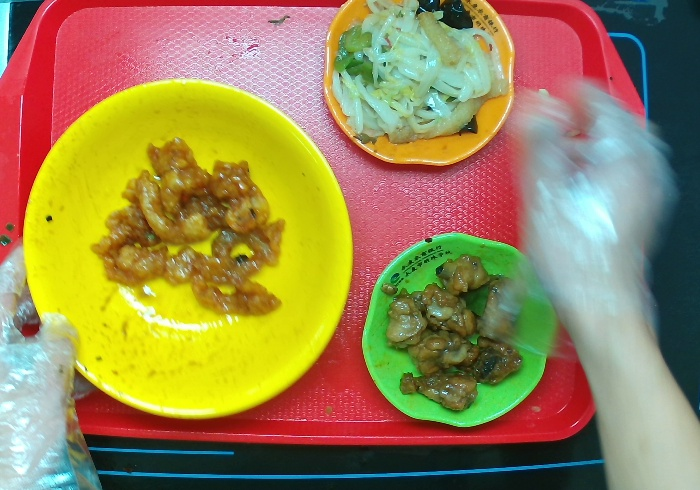YKMZ-Huang_Se_Tang_Wan: (16, 76, 356, 424)
YKMZ-Ju_Se_Ao_Bian_Wan: (316, 1, 519, 173)
YKMZ-Lv_Se_Ao_Bian_Wan: (357, 225, 562, 433)
